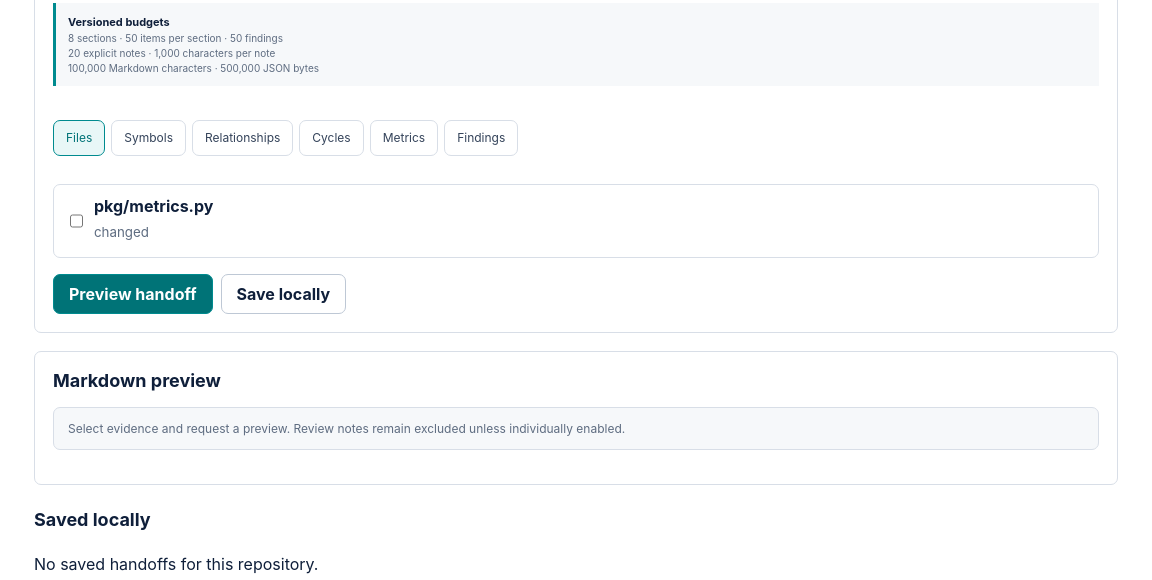
Test: HandoffView › clears comparison selections and preview when the snapshot pair changes
(page scrolled)
Click the checkbox labelled "pkg/metrics.py changed" at coordinates (76, 221), box [70,199,83,243]
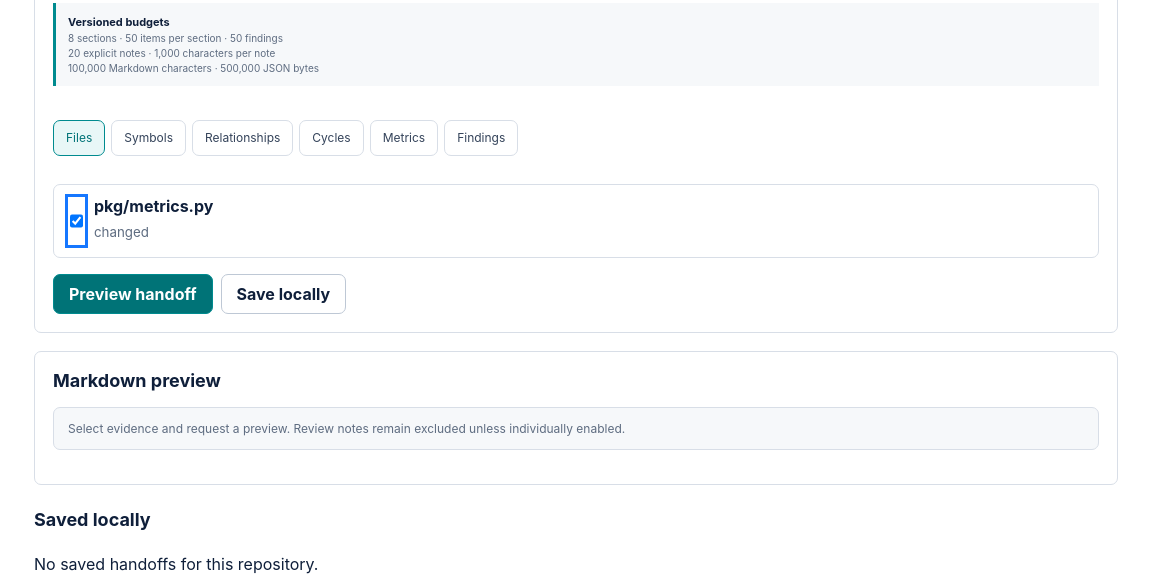
Click the button "Preview handoff" at coordinates (133, 294), box [53,274,212,314]
(page scrolled)
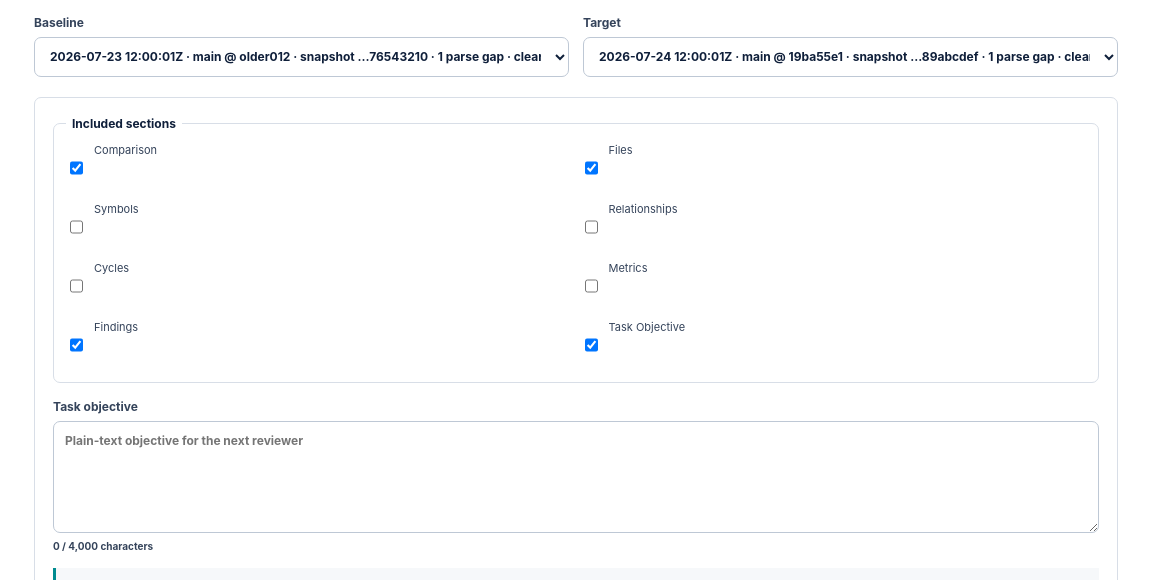
Select "2026-07-24 12:00:01Z · main @ 19ba55e1 · snapshot …89abcdef · 1 parse gap · clea" in the dropdown labelled "Baseline" at coordinates (302, 57), box [34,37,569,77]
(page scrolled)
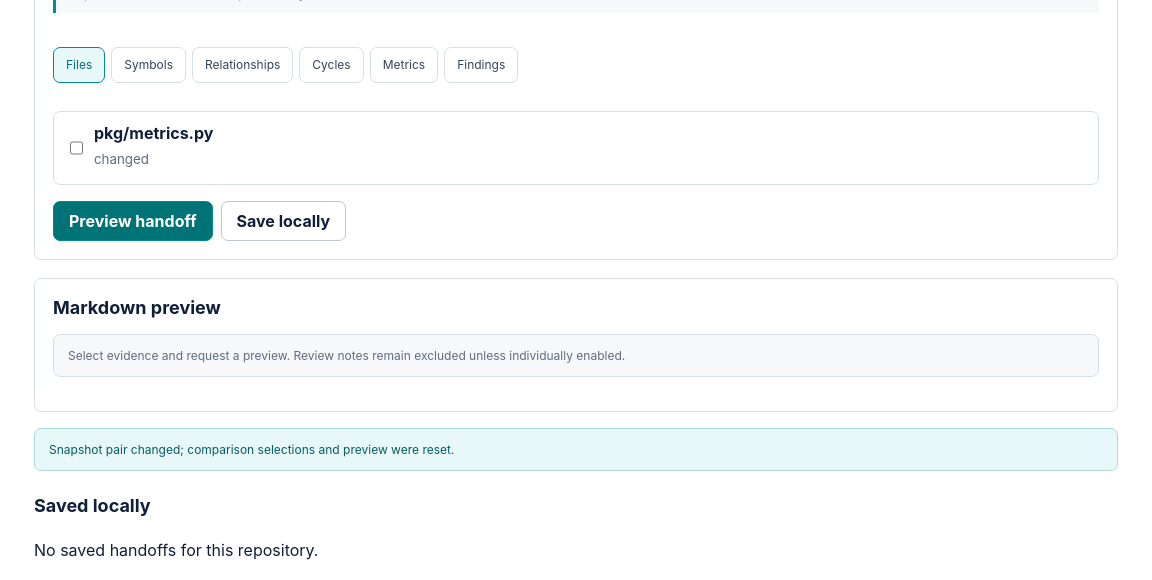
Now the text "Snapshot pair changed; comparison selections and preview were reset." is shown, box [34,428,1118,471]
Now the checkbox labelled "pkg/metrics.py changed" is not checked, box [70,126,83,170]
Click the button "Preview handoff" at coordinates (133, 221), box [53,201,212,241]
(page scrolled)
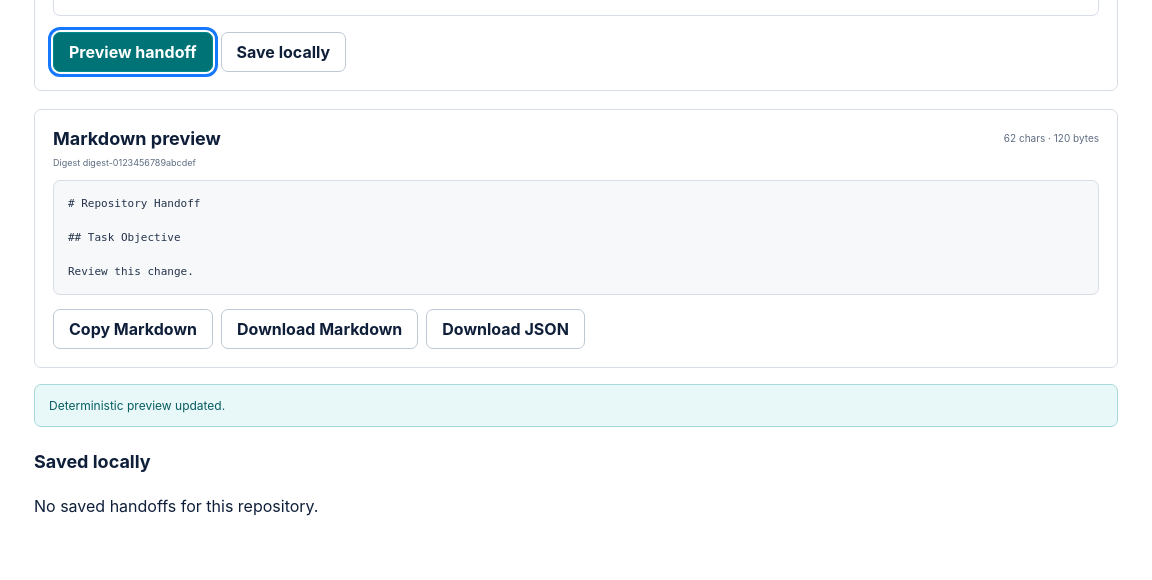
Now the text "Deterministic preview updated." is shown, box [34,384,1118,427]
